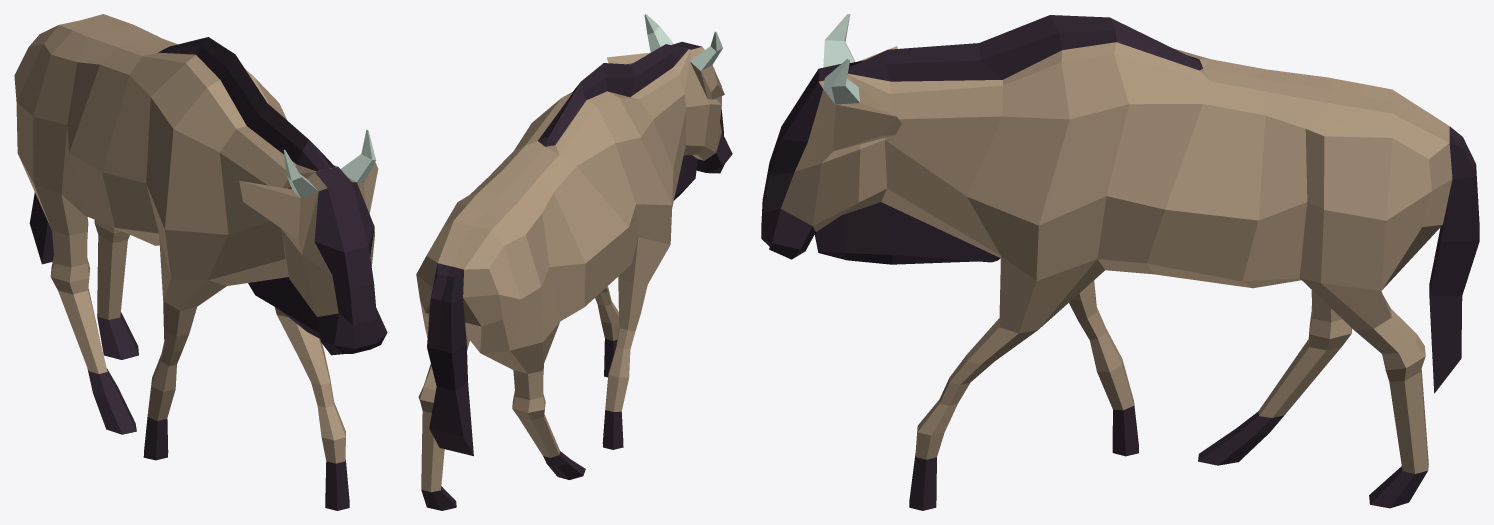
Rendered from Gnu.fbx.
The picture shows the model from 3 angles, left to right: view 1: azimuth 30°, elevation 25°; view 2: azimuth 150°, elevation 25°; view 3: azimuth 270°, elevation 25°; orthographic projection. The views are drawn at different scales.
Visible parts, largest first — view 1: Gnu.002; view 2: Gnu.002; view 3: Gnu.002.
Part boxes in pixels (box(x1,y1,x2,y2)): Gnu.002: box(14, 14, 387, 510); Gnu.002: box(416, 14, 732, 510); Gnu.002: box(761, 14, 1479, 510).
Bounding box in the file's own units: 1.06 × 2.6 × 3.63.
